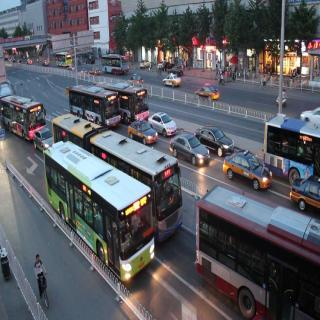BigCar: (36, 138, 156, 290), (193, 182, 319, 320), (91, 129, 185, 238), (265, 112, 320, 188), (0, 91, 45, 142), (102, 77, 151, 122), (74, 85, 116, 128), (98, 50, 129, 73), (54, 52, 76, 71)
Car: (224, 145, 264, 190), (171, 128, 207, 170), (291, 166, 320, 216), (192, 116, 227, 154), (128, 112, 156, 148), (152, 109, 180, 140), (194, 83, 224, 108), (35, 127, 56, 157), (163, 74, 181, 94)
